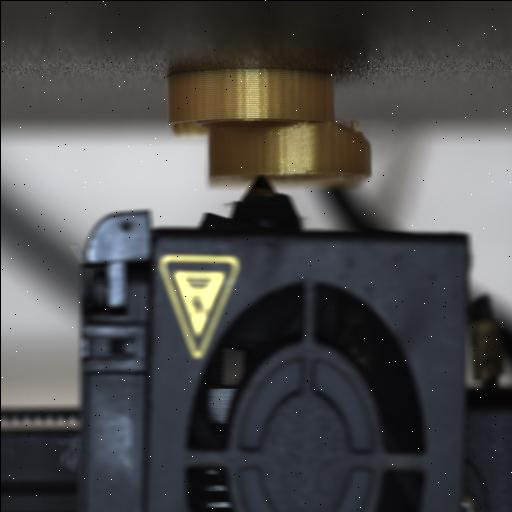layer_shift: (166, 114, 366, 142)
